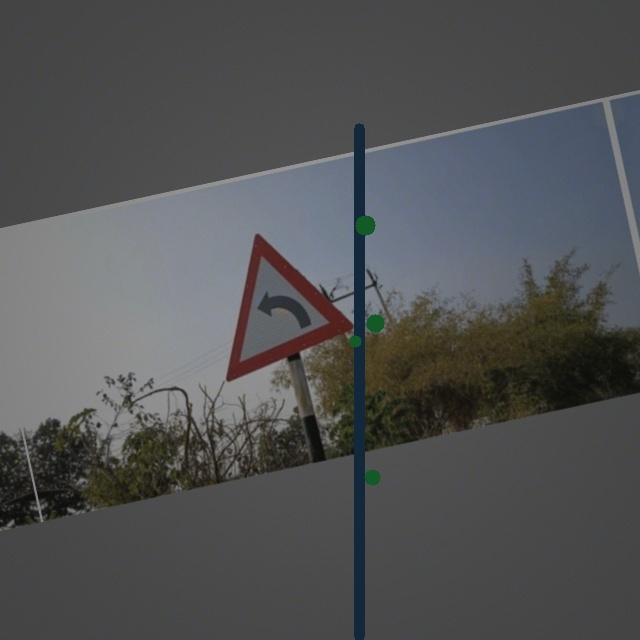Left_Hand_Curve: (196, 216, 350, 377)
